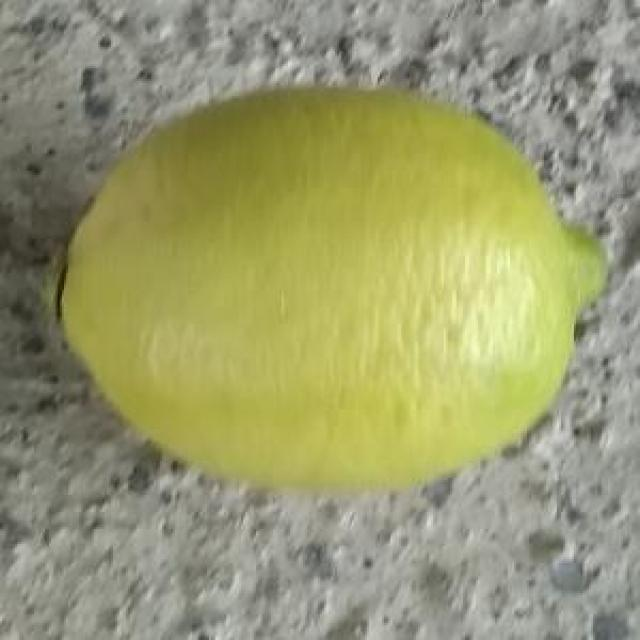lemon: (50, 79, 605, 492)
